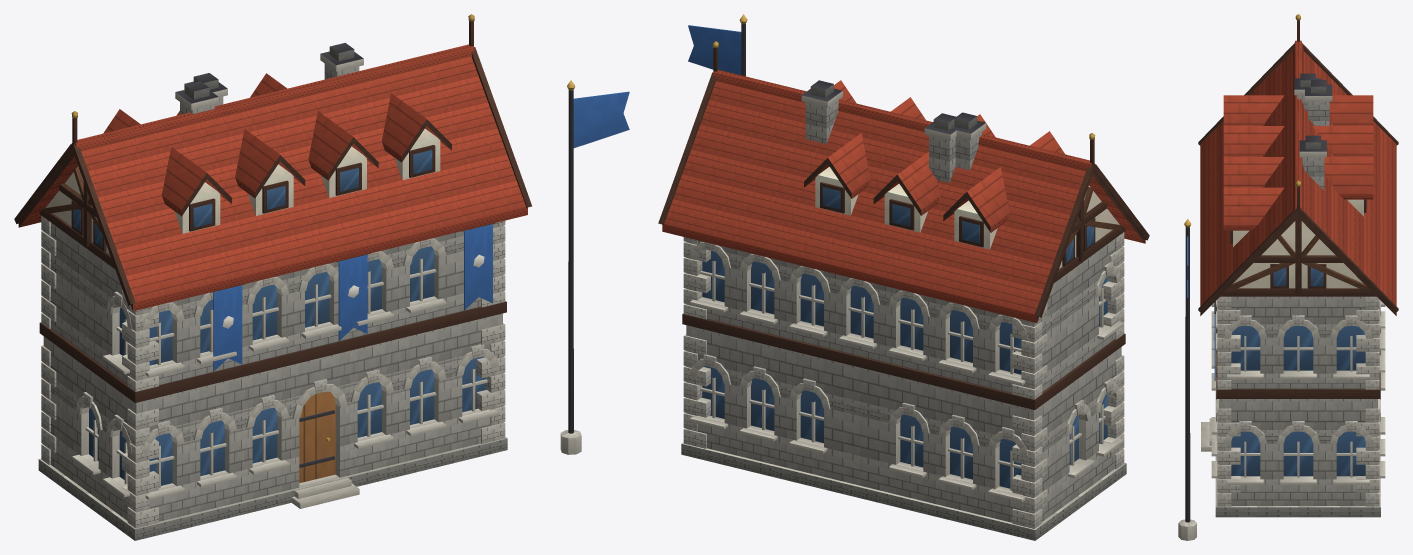
File: civ_barracks_01.glb
3 views of the same model, side by side, from view 1: azimuth 30°, elevation 25°; view 2: azimuth 150°, elevation 25°; view 3: azimuth 270°, elevation 25° (orthographic). The views are drawn at different scales.
Visible parts, largest first — view 1: civ_barracks_01; view 2: civ_barracks_01; view 3: civ_barracks_01.
Boxes of the visible parts, left/top/right/bottom form: civ_barracks_01: left=14, top=14, right=629, bottom=540; civ_barracks_01: left=658, top=14, right=1149, bottom=540; civ_barracks_01: left=1178, top=14, right=1398, bottom=540.
Bounding box in the file's own units: 15.73 × 12.13 × 7.08.
Materials: 1 (1 with a texture image).
